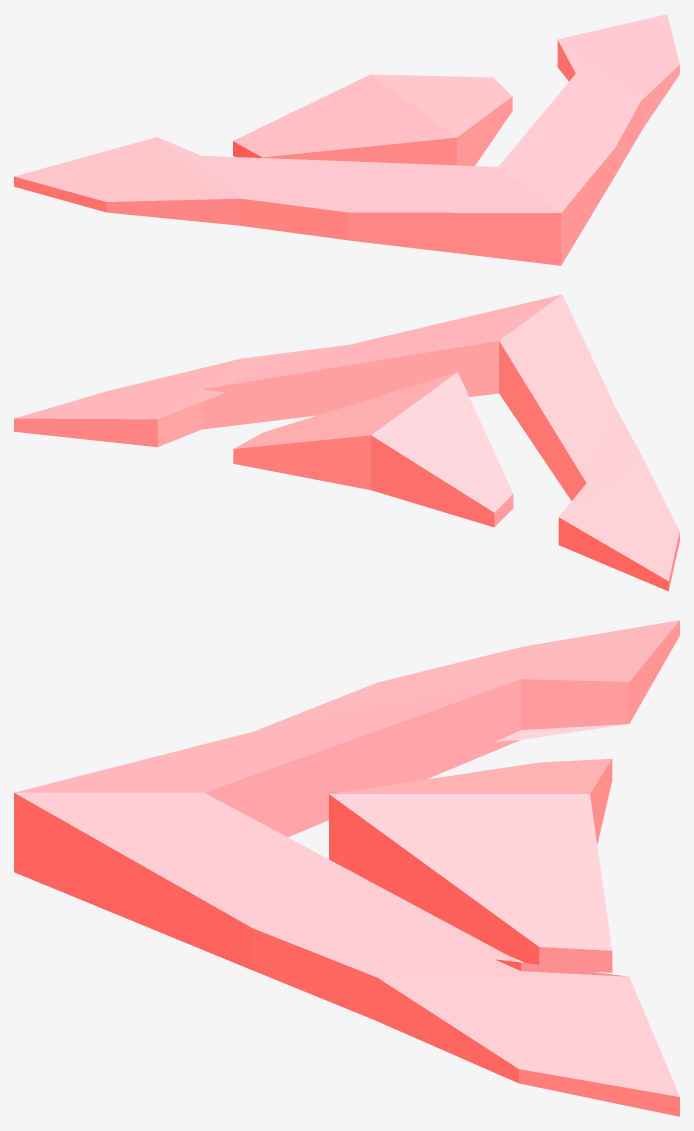
File: arrow.fbx
3 renders of one model, top to bottom at view 1: azimuth 30°, elevation 25°; view 2: azimuth 150°, elevation 25°; view 3: azimuth 270°, elevation 25°, orthographic. The views are drawn at different scales.
Visible parts, largest first — view 1: Cube.005; view 2: Cube.005; view 3: Cube.005.
Part boxes in pixels (<box>): Cube.005: <box>14,14,679,265</box>; Cube.005: <box>14,294,679,591</box>; Cube.005: <box>14,620,679,1116</box>.
Size of the model in its own units: 245 by 21.06 by 143.
